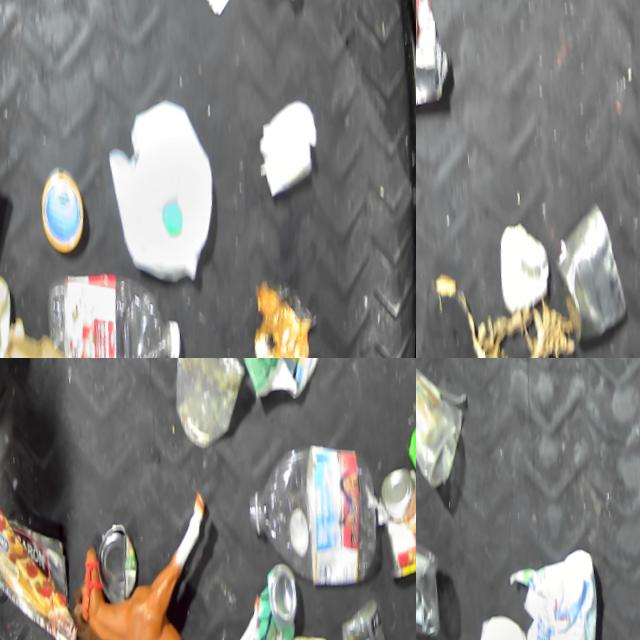can: (551, 190, 640, 343), (234, 548, 311, 640), (375, 454, 416, 574), (94, 516, 145, 604)
milk_jug: (102, 88, 227, 284), (461, 603, 563, 640)
non_white_jug: (416, 0, 458, 121)
plastic_bottle: (242, 430, 390, 590), (44, 258, 189, 358), (416, 478, 450, 640), (37, 158, 92, 253)
